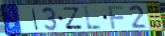2: (128, 5, 148, 30)
3: (41, 6, 58, 32)
F: (107, 5, 127, 30)
I: (31, 8, 40, 31)
L: (83, 6, 104, 31)
Z: (62, 7, 84, 31)
